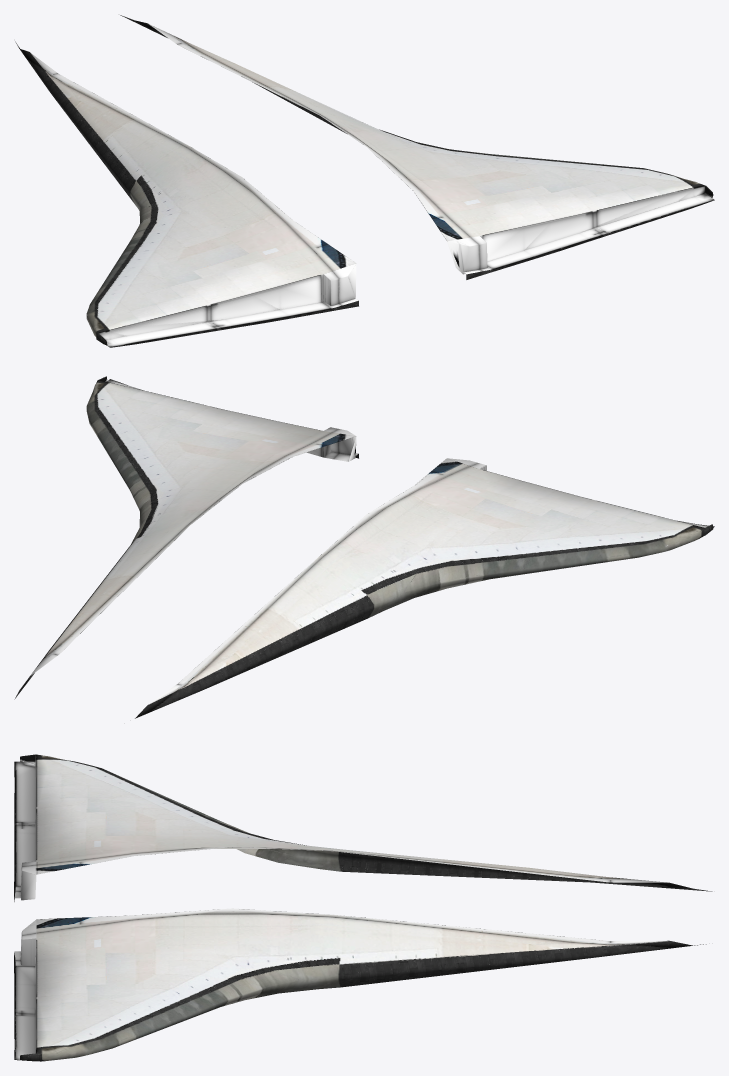
File: Wing.fbx
The picture shows the model from 3 angles, top to bottom: view 1: azimuth 30°, elevation 25°; view 2: azimuth 150°, elevation 25°; view 3: azimuth 270°, elevation 25°; orthographic projection.
Visible parts, largest first — view 1: wingTop; view 2: wingTop; view 3: wingTop.
Part boxes in pixels (box(x1,y1,x2,y2)): wingTop: box(15, 15, 714, 347); wingTop: box(14, 376, 714, 718); wingTop: box(14, 754, 712, 1061).
Size of the model in its own units: 91.42 by 7.43 by 90.06.
